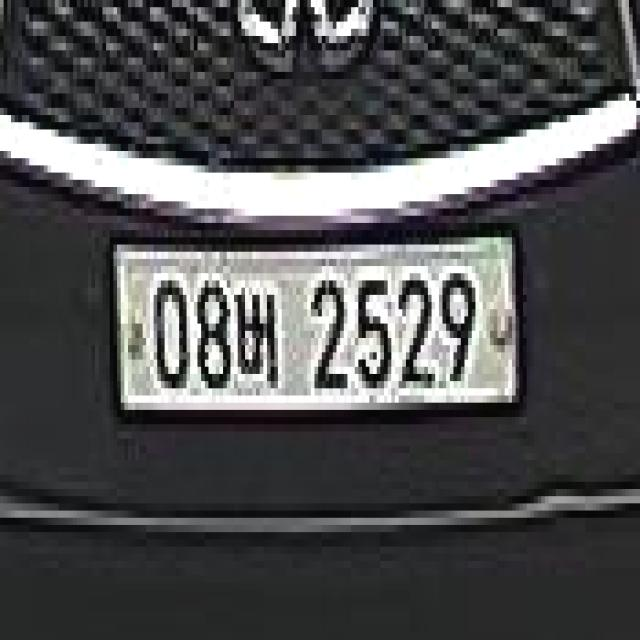illegal_plate: (106, 216, 526, 442)
